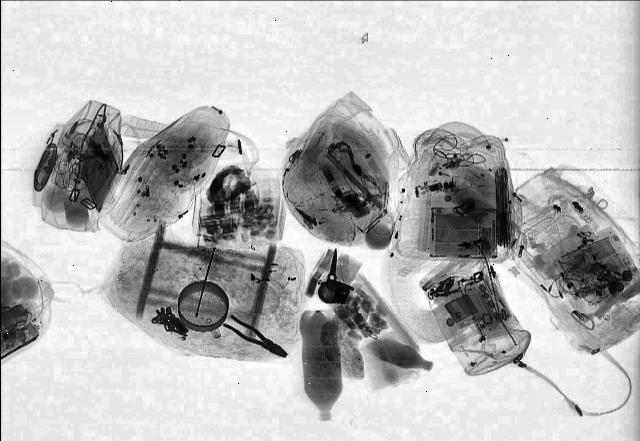Pliers: (219, 314, 293, 360)
